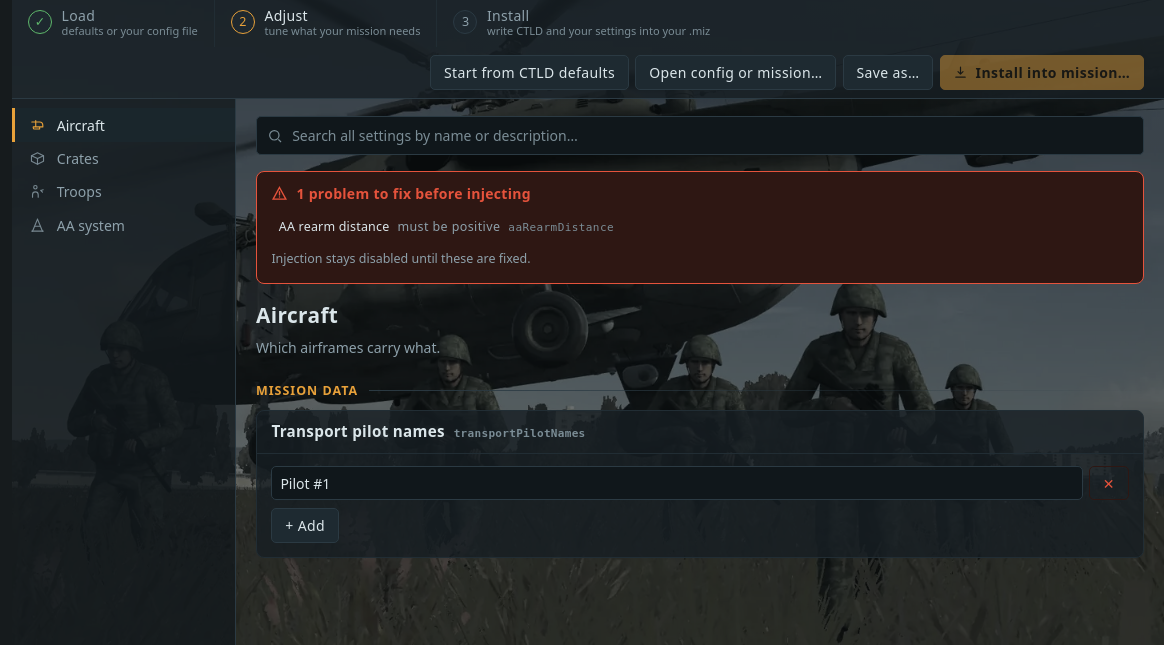
Test case: a validation finding names the setting and jumps to its family
The width and height of the screenshot is (1164, 645).
Expected: the heading "1 problem to fix before injecting" is shown, [271, 184, 531, 203]
Click the button "AA rearm distance must be positive aaRearmDistance" at (334, 227), box [271, 212, 1129, 241]
(page scrolled)
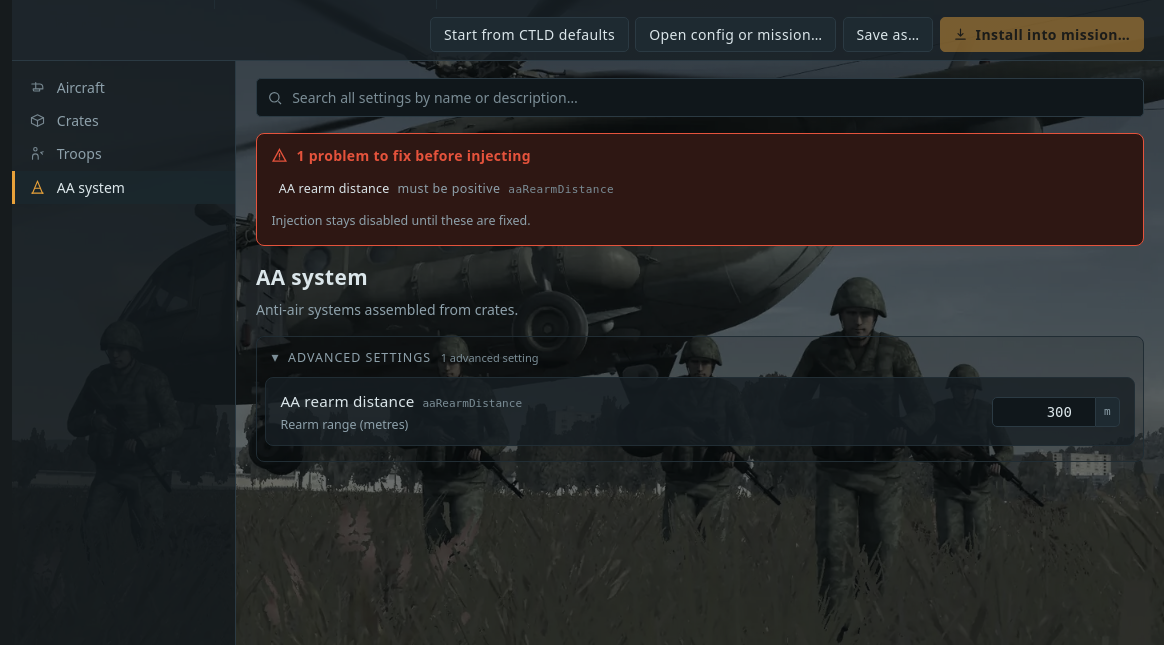
Now the number field labelled "AA rearm distance" is shown, box [992, 397, 1096, 427]
